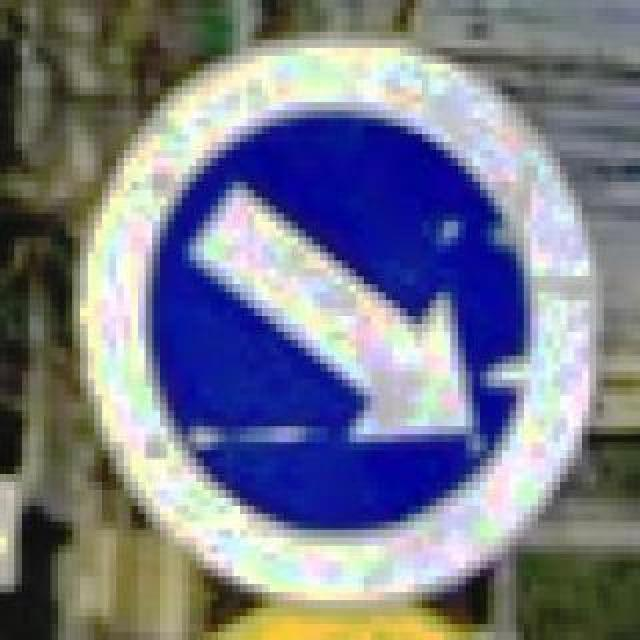keep right: (66, 32, 598, 608)
